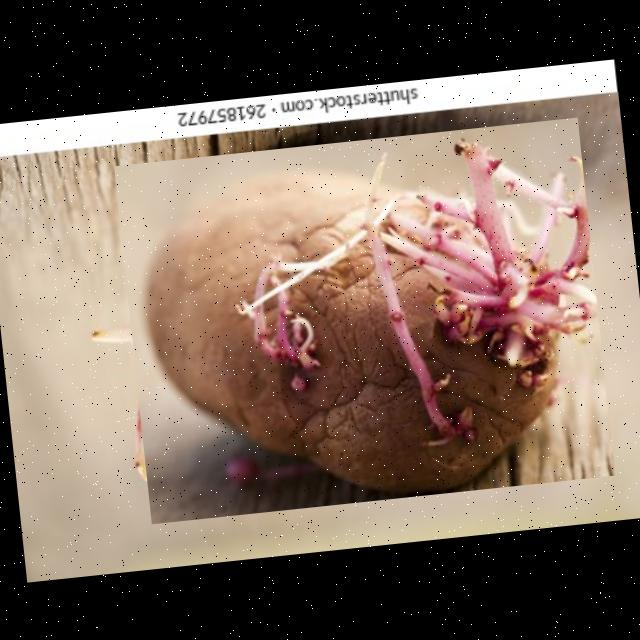Sprouted potato: (112, 116, 614, 523)
